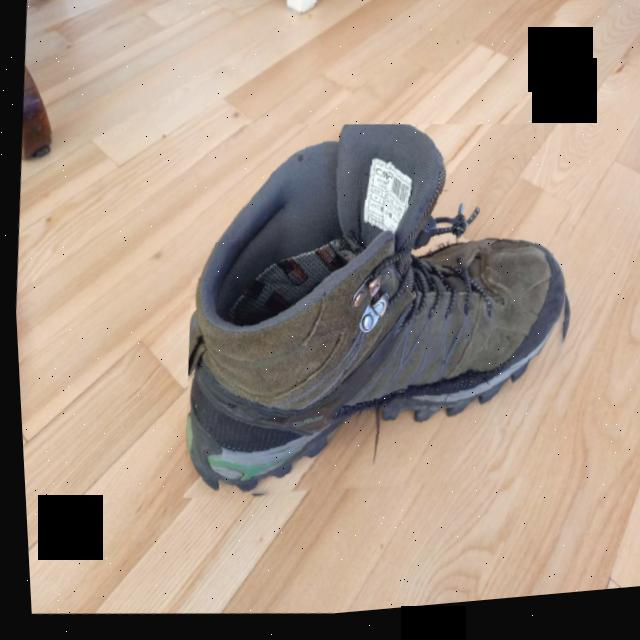shoe: (162, 102, 590, 535)
